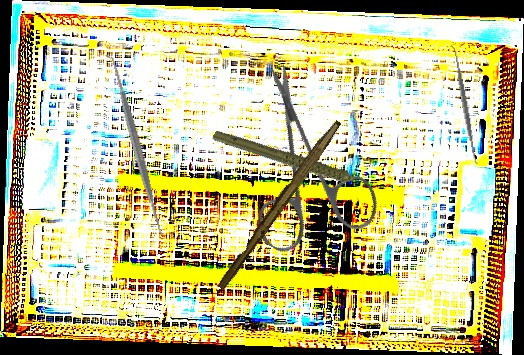Handpiece: (210, 99, 376, 227)
Iris Scissors: (195, 61, 417, 284)
Scalpel Handle: (215, 115, 343, 294)
Spatula Surgical: (100, 50, 172, 240), (447, 43, 482, 166)
